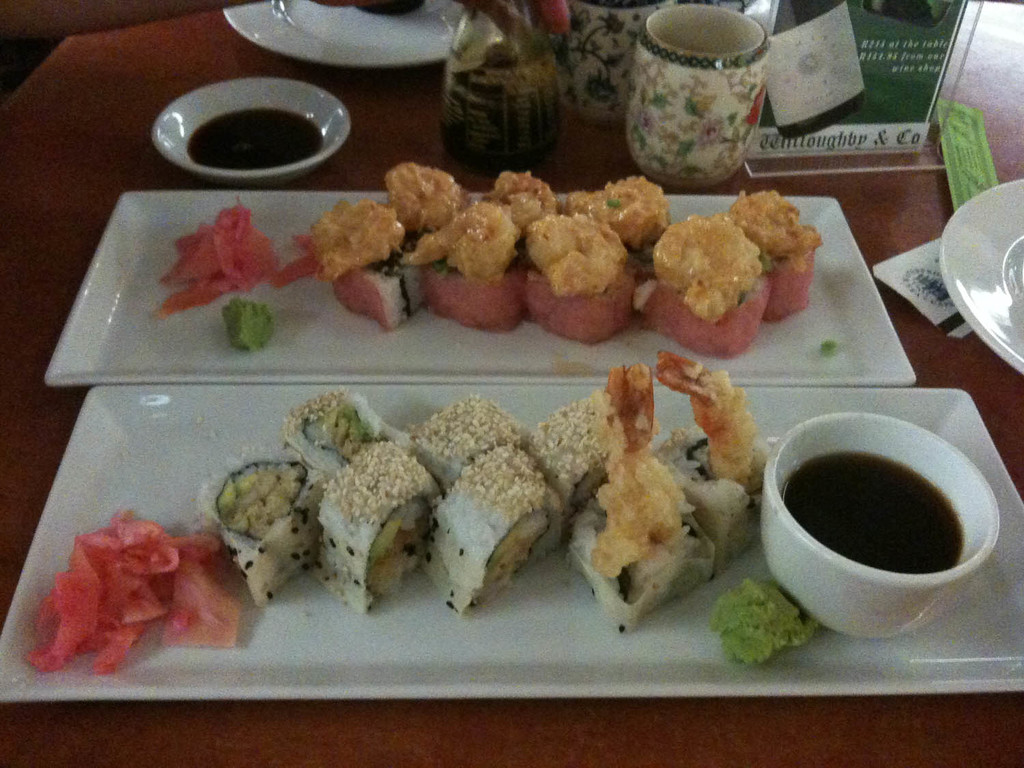sushi: (189, 350, 765, 623), (310, 160, 814, 345), (573, 413, 733, 630)
